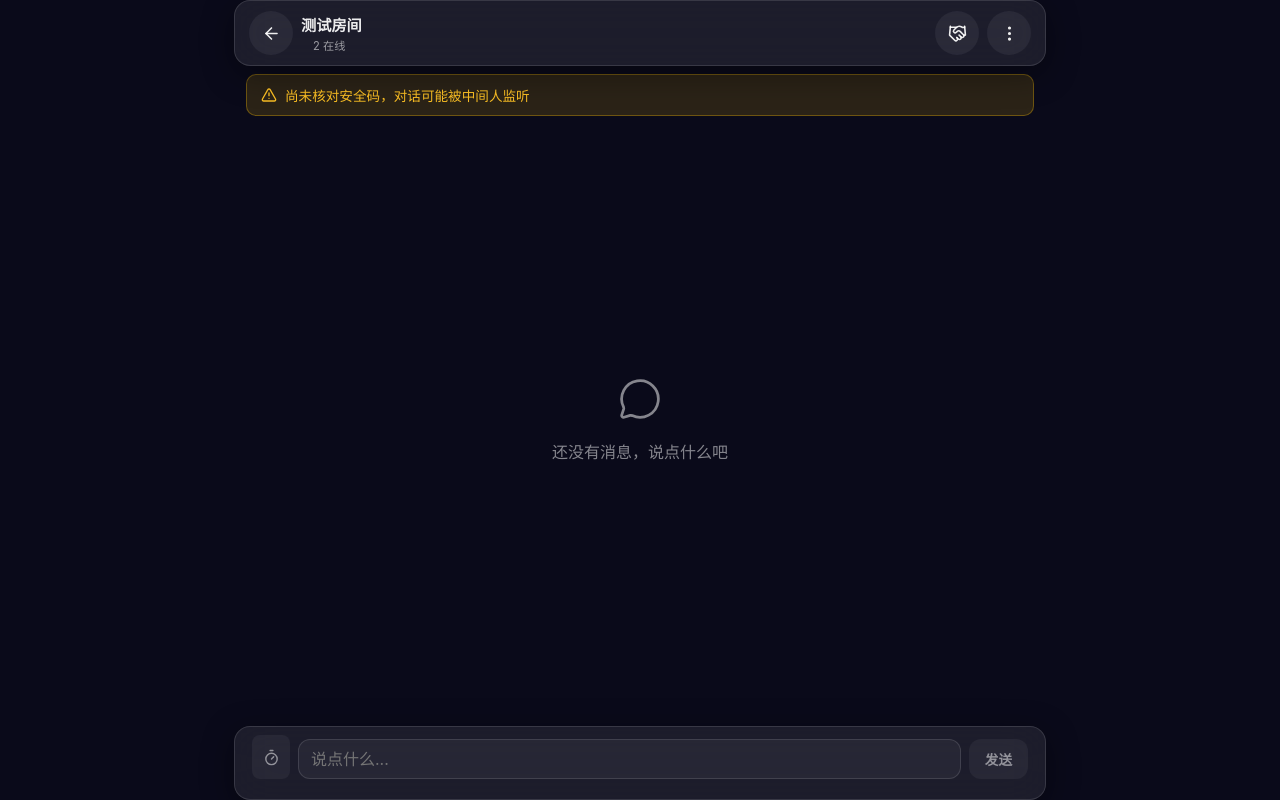
ChatView 密钥轮换入口 › 打开菜单后显示换钥入口
This screenshot has width=1280, height=800.
Click the button named "对话操作" at (1009,33), box top-left (987, 11), bottom-right (1031, 55)
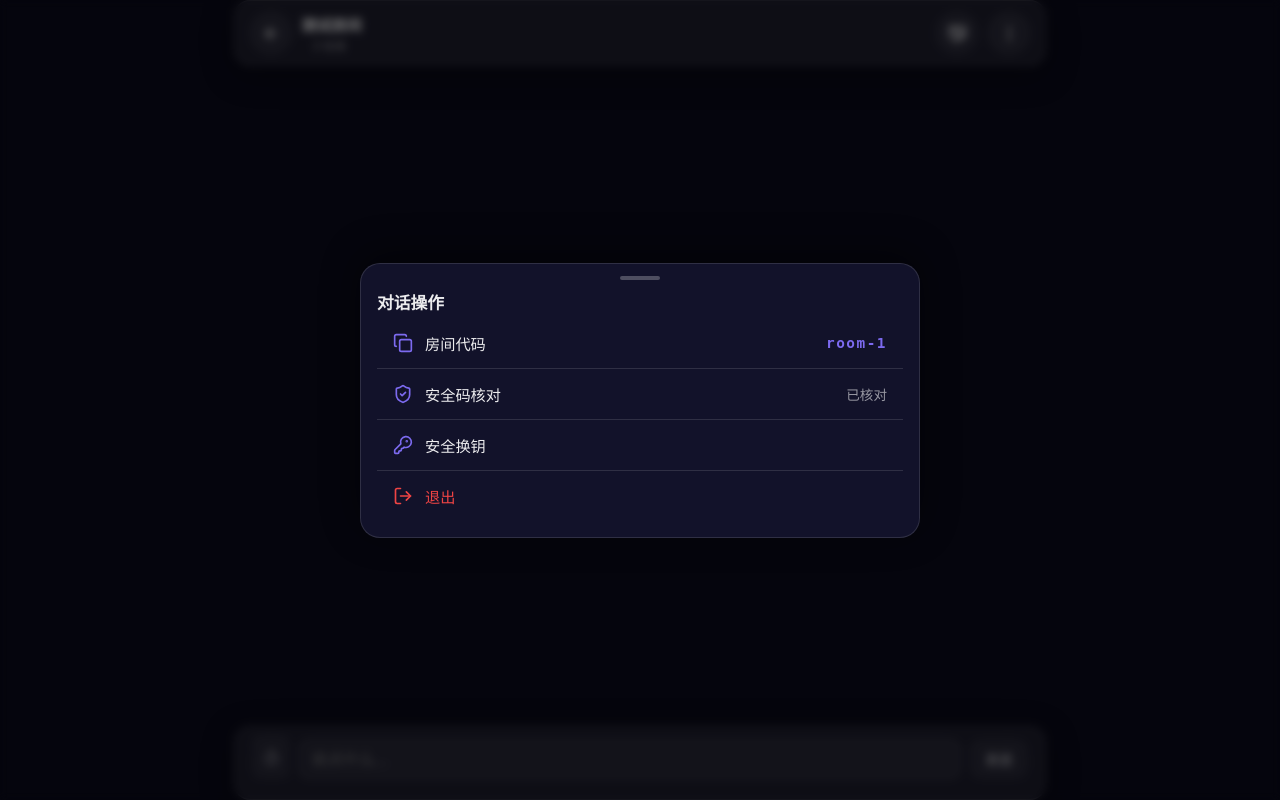
Expected: the button labelled "安全换钥" is shown, top-left (377, 420), bottom-right (903, 470)
